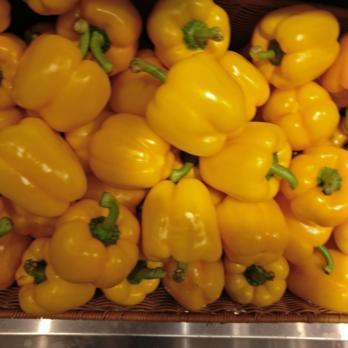Capsicum: (0, 0, 343, 311)
